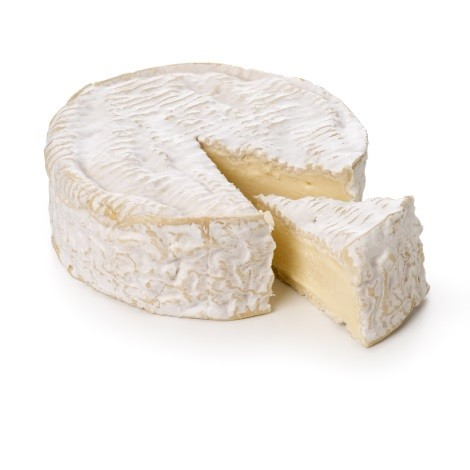camembert: (43, 62, 433, 351)
